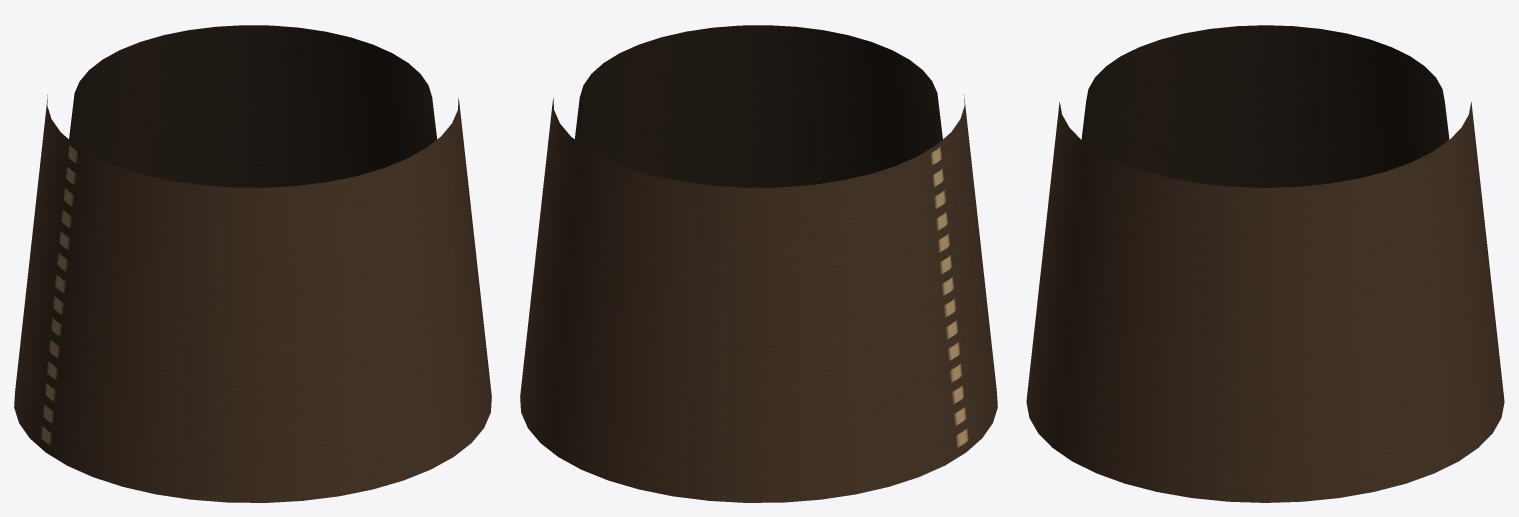
Rendered from cup.glb.
3 renders of one model, left to right at view 1: azimuth 30°, elevation 25°; view 2: azimuth 150°, elevation 25°; view 3: azimuth 270°, elevation 25°, orthographic.
Parts seen in each view (by area): view 1: cup; view 2: cup; view 3: cup.
Part boxes in pixels (left/top/right/bottom): cup: left=14, top=25, right=491, bottom=502; cup: left=520, top=25, right=997, bottom=502; cup: left=1026, top=25, right=1504, bottom=502.
Size of the model in its own units: 0.072 by 0.05 by 0.072.
2 materials, 2 textured.
